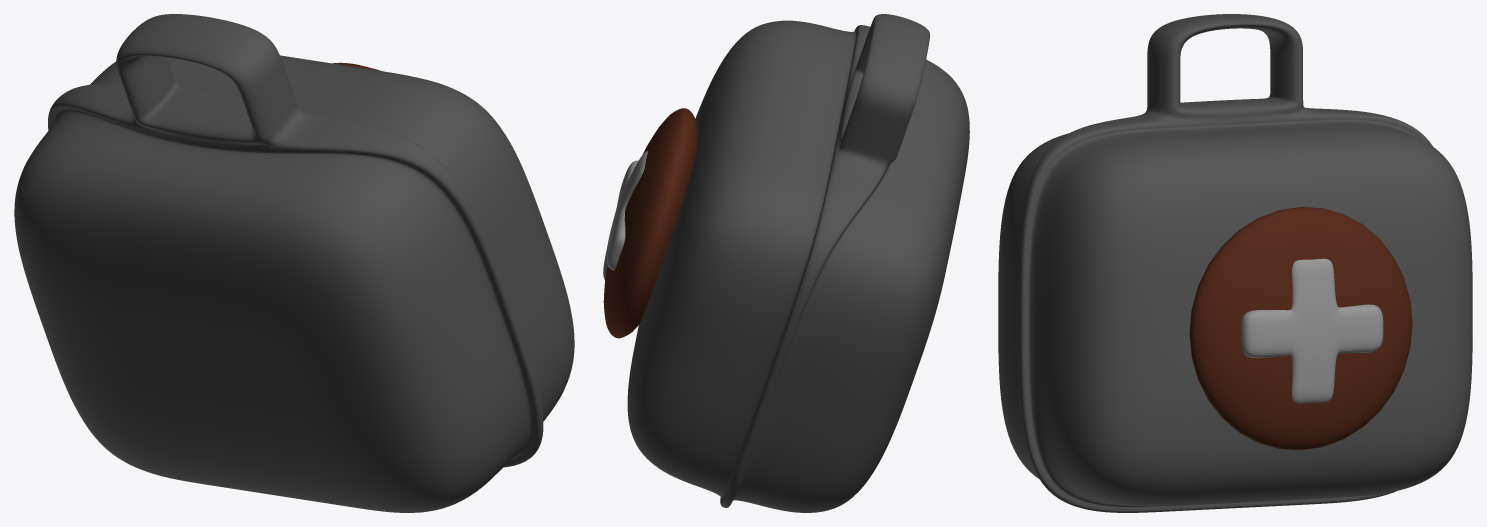
Rendered from firstAid-mod.gltf.
The picture shows the model from 3 angles, left to right: view 1: azimuth 30°, elevation 25°; view 2: azimuth 150°, elevation 25°; view 3: azimuth 270°, elevation 25°; orthographic projection. The views are drawn at different scales.
Parts seen in each view (by area): view 1: Cube.001; view 2: Cube.001, Sphere, Cube.008; view 3: Cube.001, Sphere, Cube.008.
Boxes of the visible parts, x1,y1,x2,y2 form: Cube.001: [14, 14, 574, 512]; Cube.001: [627, 14, 969, 512]; Sphere: [603, 108, 698, 338]; Cube.008: [603, 151, 647, 279]; Cube.001: [998, 14, 1472, 512]; Sphere: [1189, 207, 1412, 450]; Cube.008: [1241, 258, 1383, 403].
Bounding box in the file's own units: 5.69 × 6.49 × 6.27.
